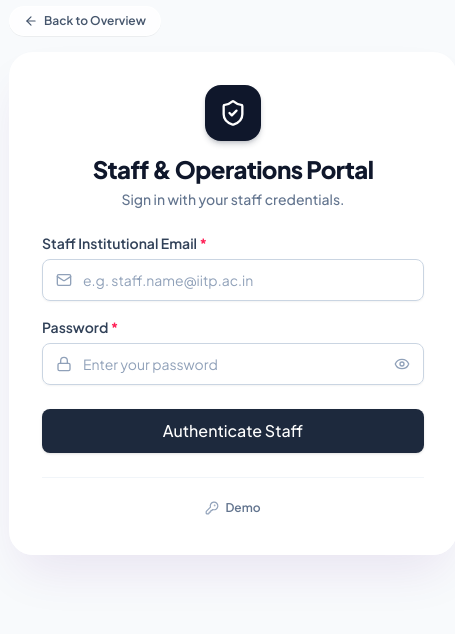
Test: StaffLoginPage › validates empty inputs on submit
Click the button "Authenticate Staff".
click(233, 431)  # box [42,409,424,453]
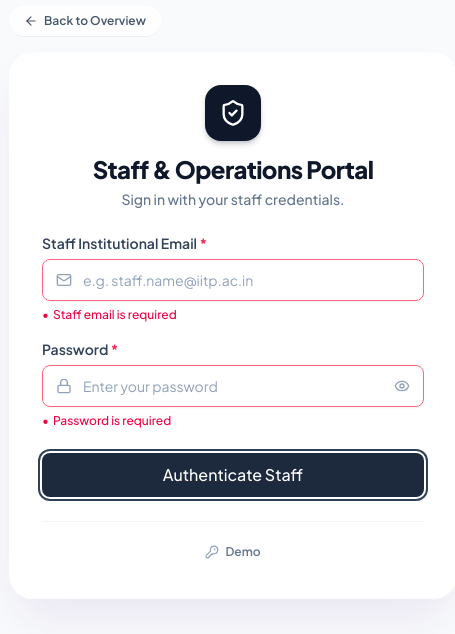
Now the text "• Staff email is required" is shown, box [42,307,177,322]
Now the text "• Password is required" is shown, box [42,413,171,428]
